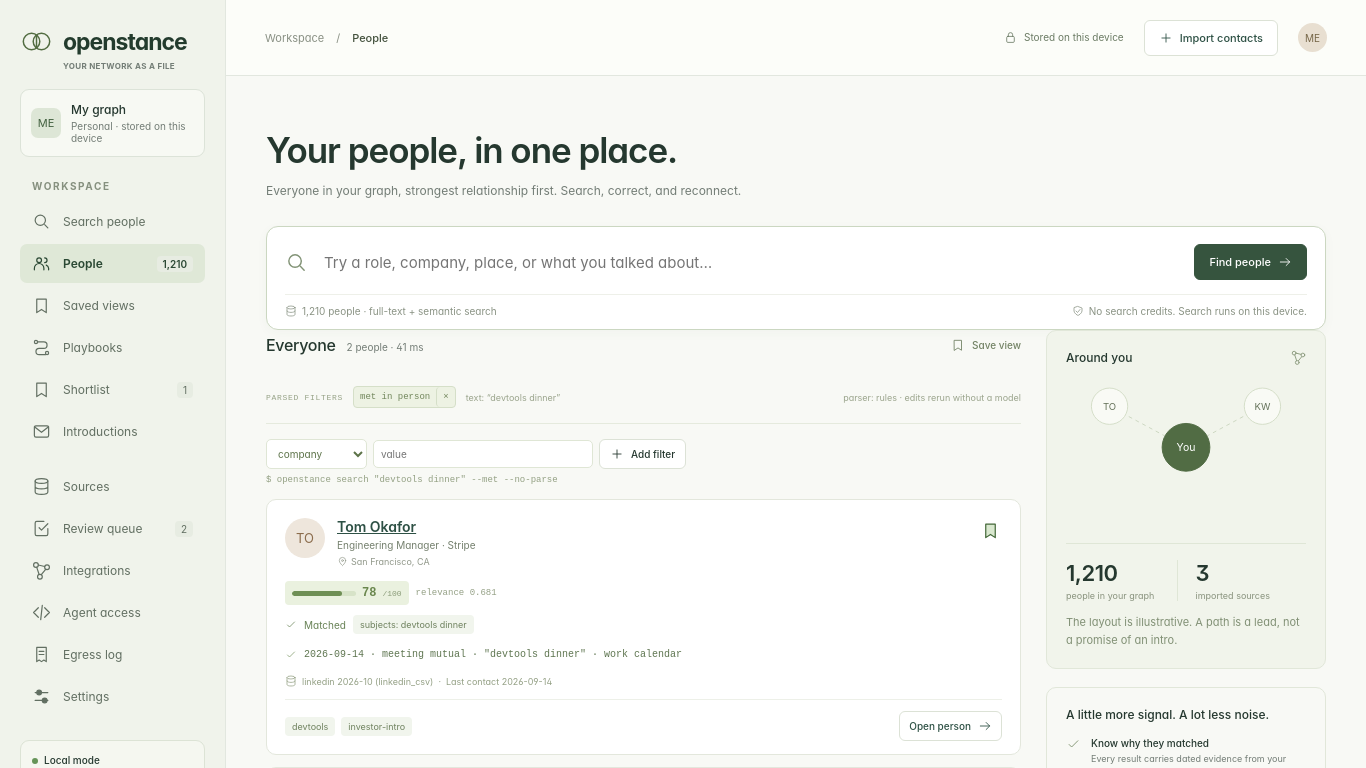
Scenario: Results heading (U2) › People page: "Everyone" for the empty query, a results heading when searching
Expected: the heading "Tom Okafor" is shown, [337,518,416,535]
Expected: the heading "Everyone 2 people · 41 ms" is shown, [266,335,424,355]
In the search field named "search your network": (751, 262) [322,252,1180,273], type "devtools dinner"
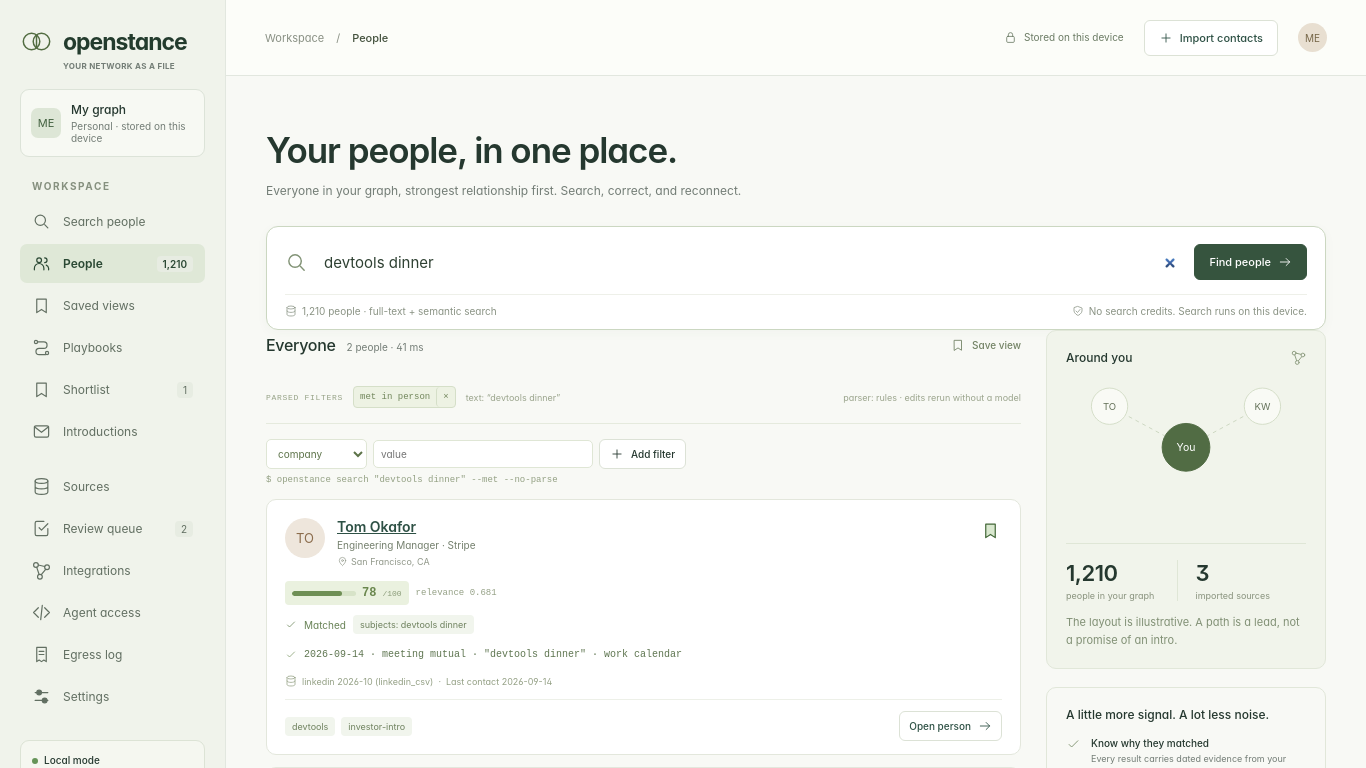
Click the button "Find people": (1251, 262) [1194,244,1307,280]
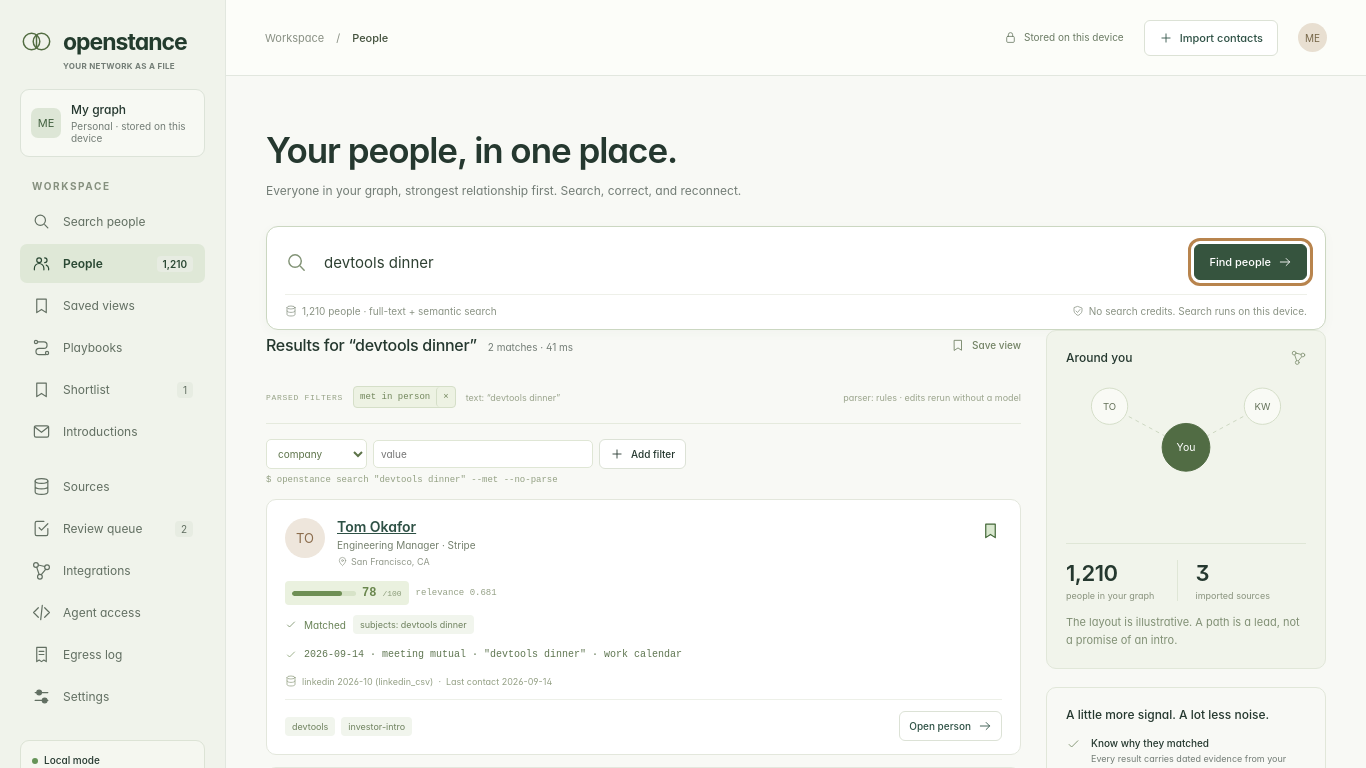
Expected: the heading "Results for “devtools dinner” 2 matches · 41 ms" is shown, [266,335,573,355]
